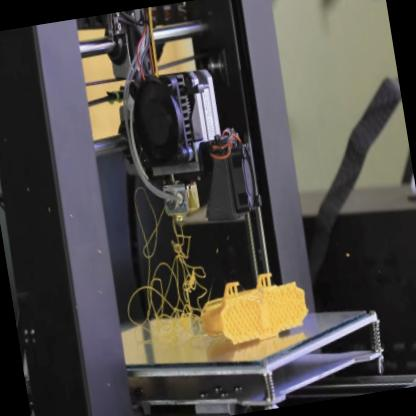fail: (118, 224, 216, 352)
